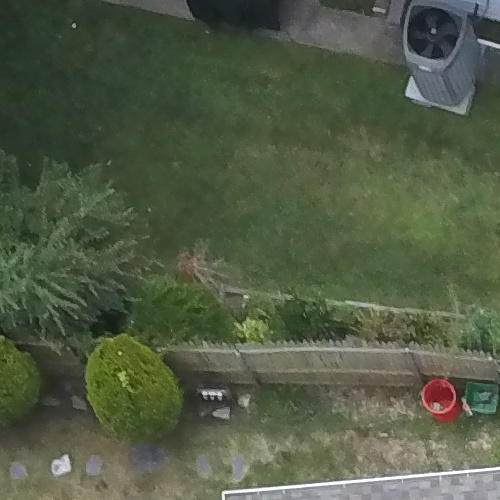container: (406, 370, 466, 426), (457, 374, 500, 417)
